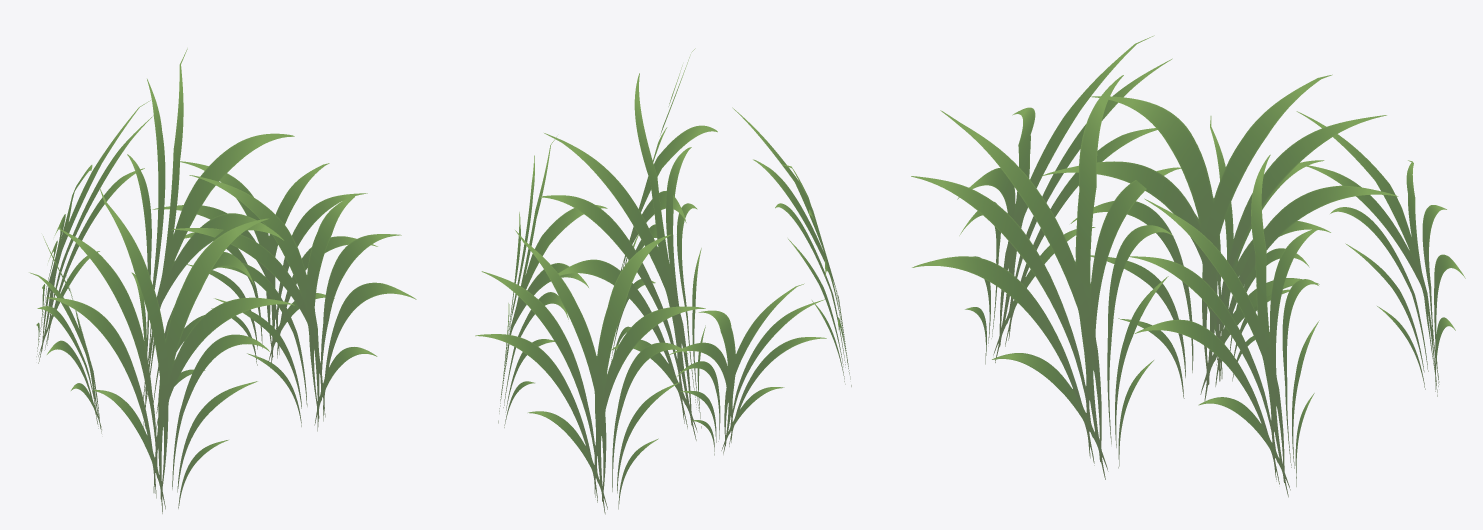
File: grass_generic-round_group.fbx
3 renders of one model, left to right at view 1: azimuth 30°, elevation 25°; view 2: azimuth 150°, elevation 25°; view 3: azimuth 270°, elevation 25°, orthographic. The views are drawn at different scales.
Parts seen in each view (by area): view 1: grass_generic_round_group; view 2: grass_generic_round_group; view 3: grass_generic_round_group.
Part boxes in pixels (box(x1,y1,x2,y2)): grass_generic_round_group: box(29, 48, 416, 513); grass_generic_round_group: box(475, 48, 851, 514); grass_generic_round_group: box(911, 35, 1465, 497).
Size of the model in its own units: 64.74 by 65.95 by 82.09.
